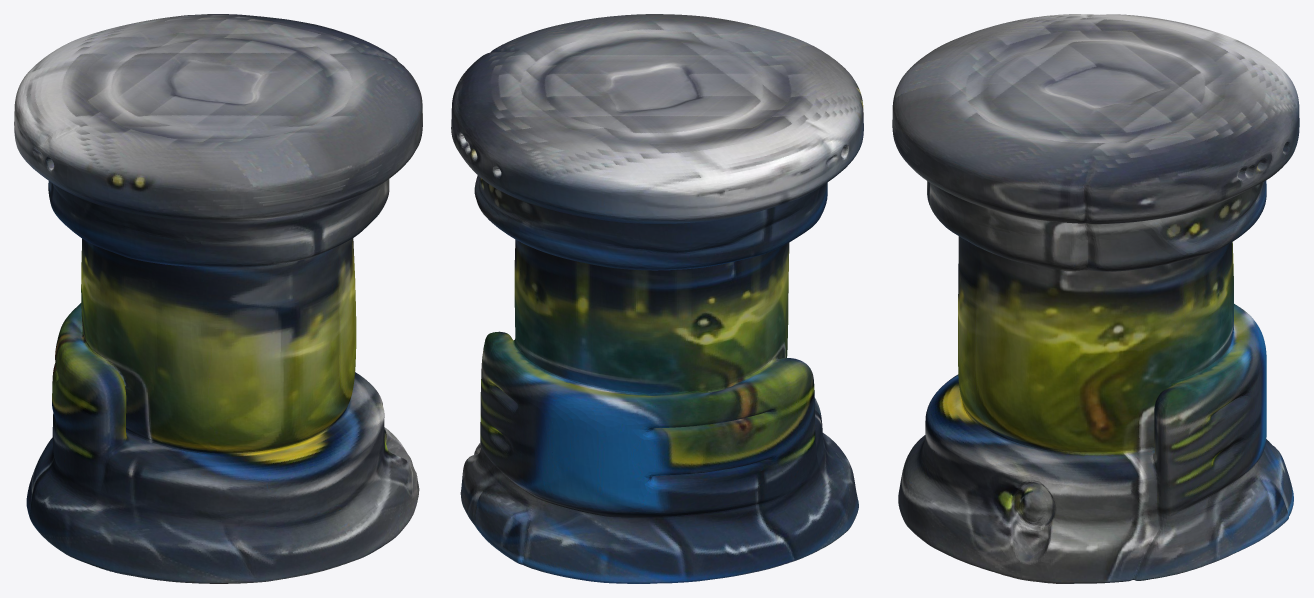
The model's file is mutative_digestive_fluids.glb.
The picture shows the model from 3 angles, left to right: view 1: azimuth 30°, elevation 25°; view 2: azimuth 150°, elevation 25°; view 3: azimuth 270°, elevation 25°; orthographic projection.
Bounding box in the file's own units: 1.64 × 1.83 × 1.63.
1 material, 1 textured.
